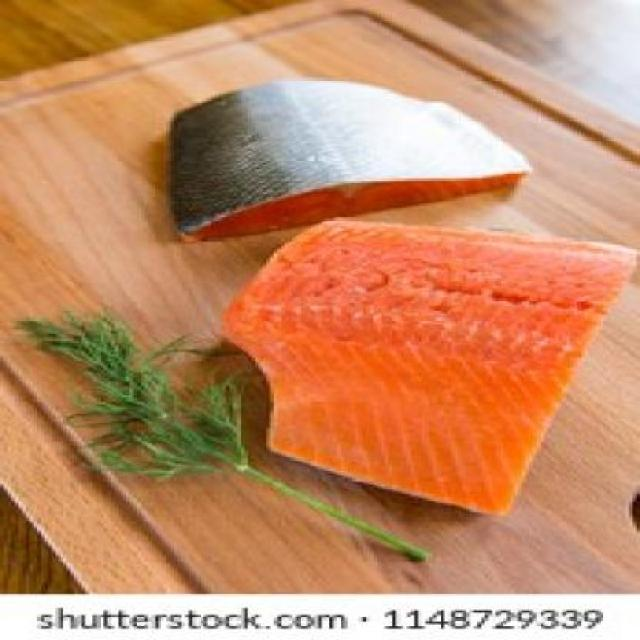salmon: (206, 208, 640, 529)
